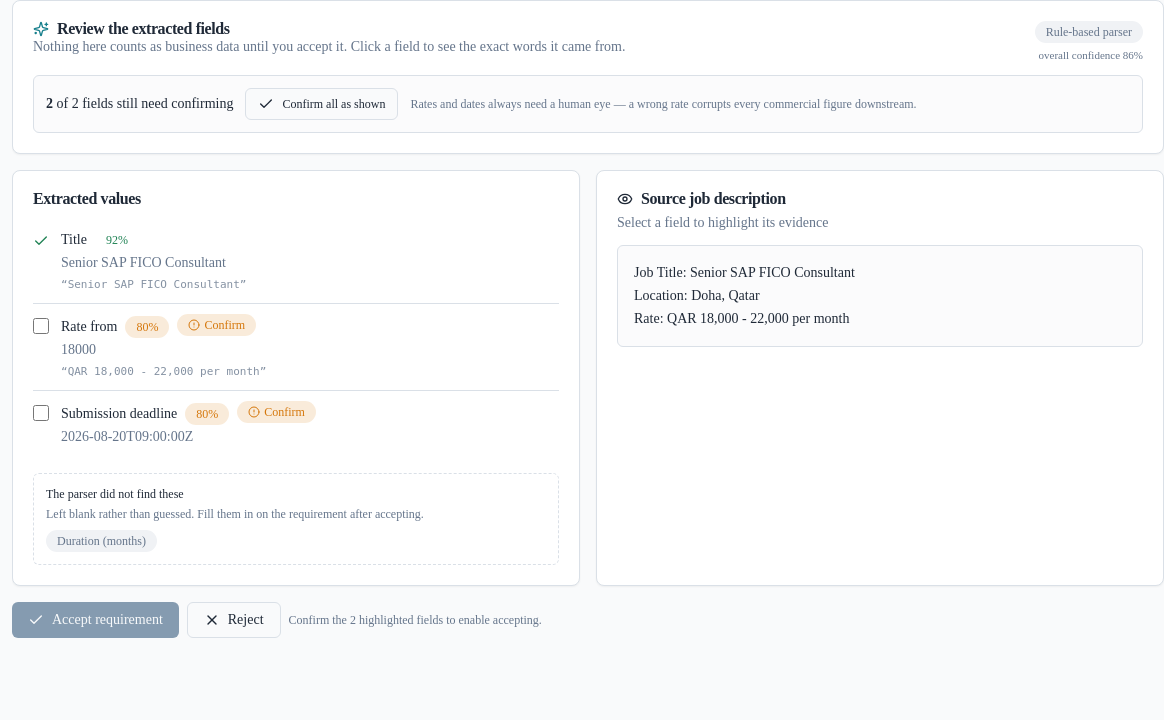
parse review › enables accepting once every flagged field is confirmed
Expected: the heading "Review the extracted fields" is shown, [33,20,230,37]
Click the button "Confirm all as shown" at (322, 104), box [245,88,398,120]
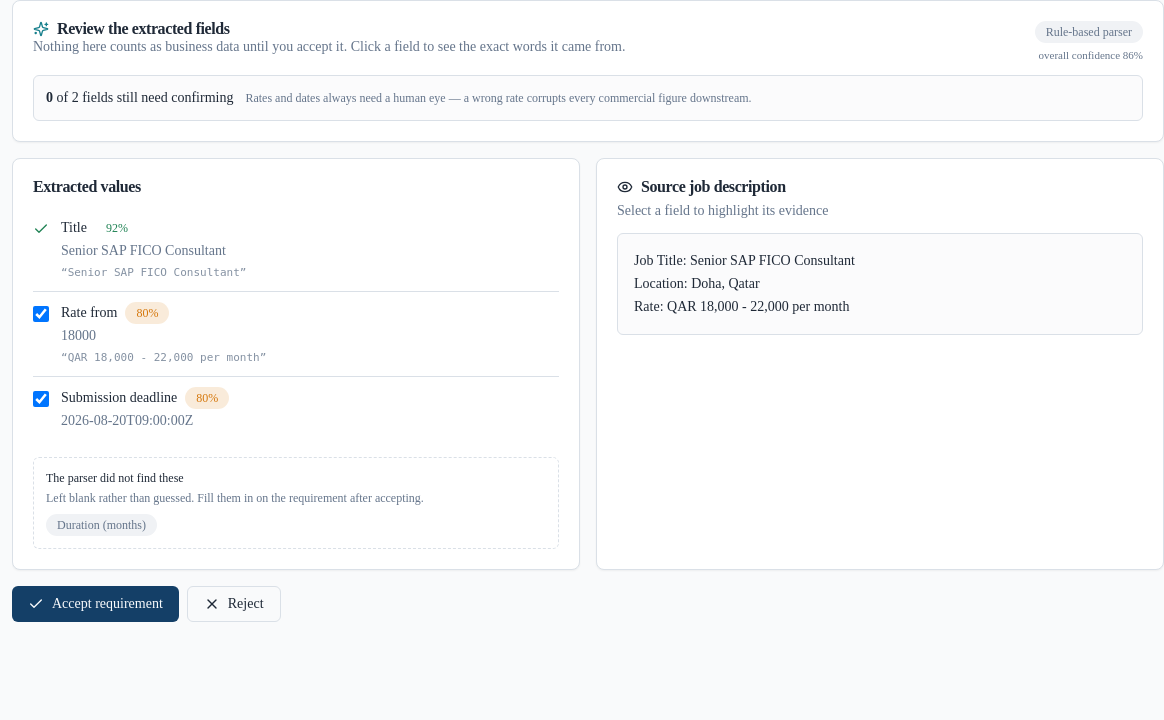
Now the button "Accept requirement" is enabled, box [12,586,179,622]
